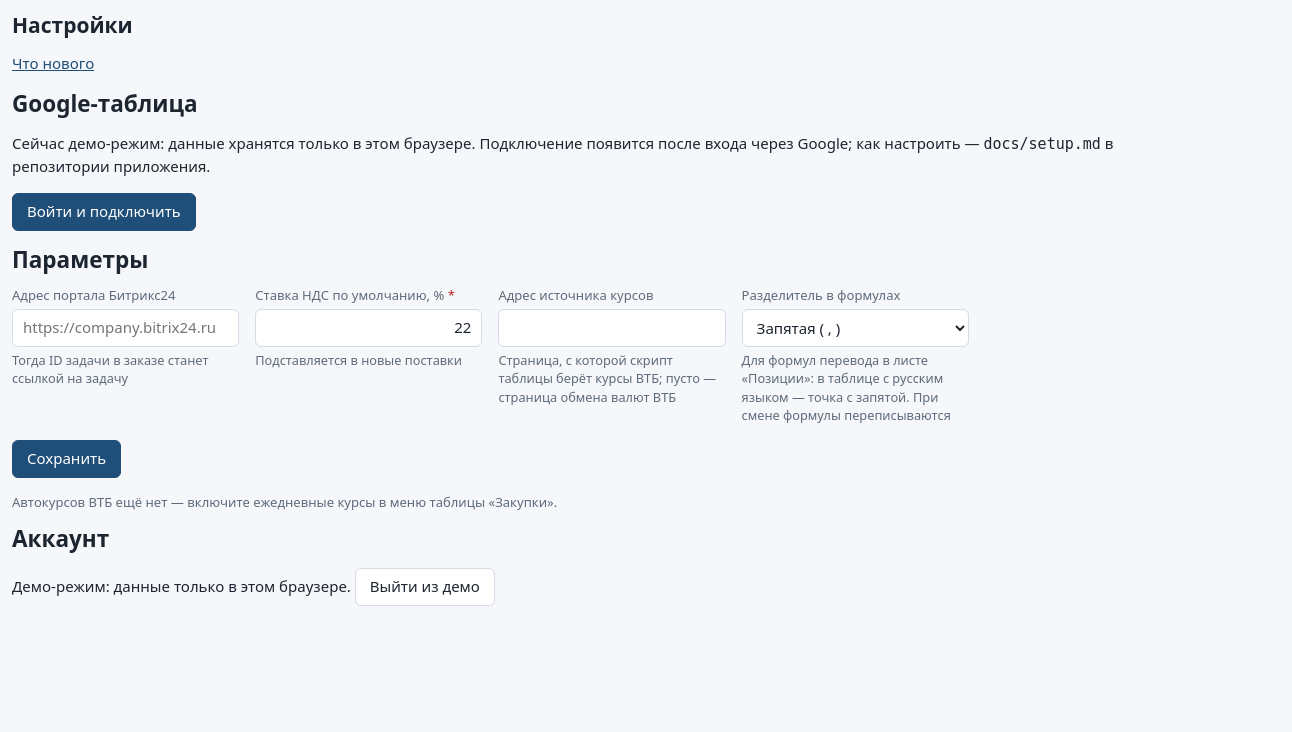
экран настроек › нет связи — баннер «Нет связи с таблицей — Повторить», введённое не теряется, повтор сохраняет
Expected: the field labelled "Ставка НДС по умолчанию, % *" holds "22", left=255, top=309, right=482, bottom=347
Type "https://p.bitrix24.ru" into the field labelled "Адрес портала Битрикс24" at (126, 328), box left=12, top=309, right=239, bottom=347
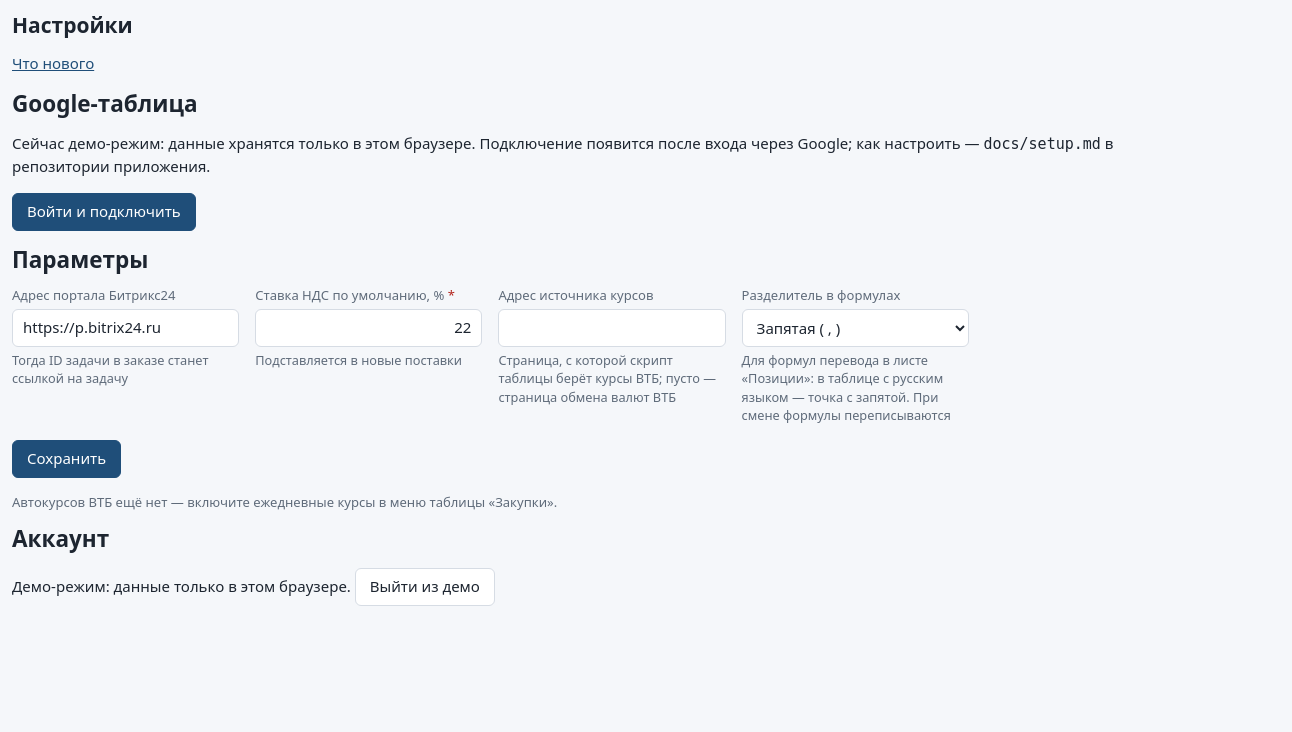
Click the button "Сохранить" at (67, 459), box left=12, top=440, right=121, bottom=478
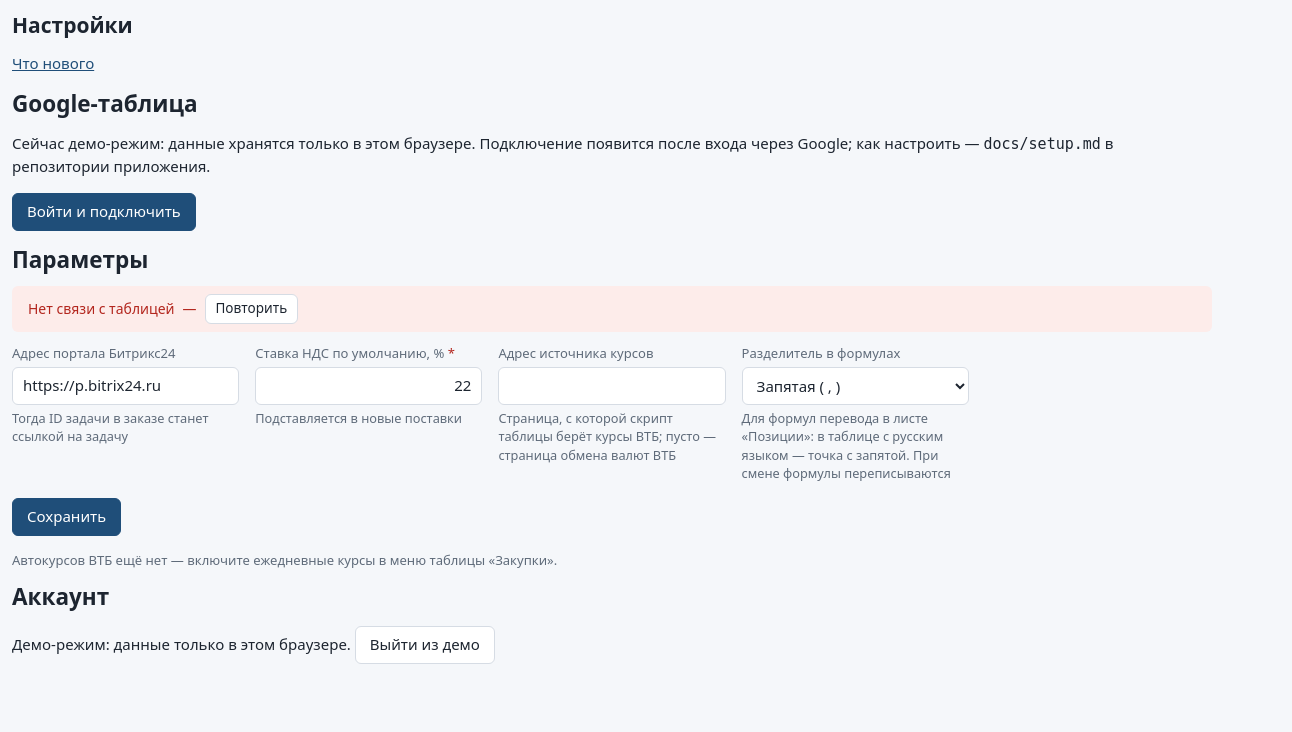
Result: the message shows "Нет связи с таблицей" at left=28, top=299, right=175, bottom=318
Click the button "Повторить" at (251, 309), box left=204, top=294, right=298, bottom=324
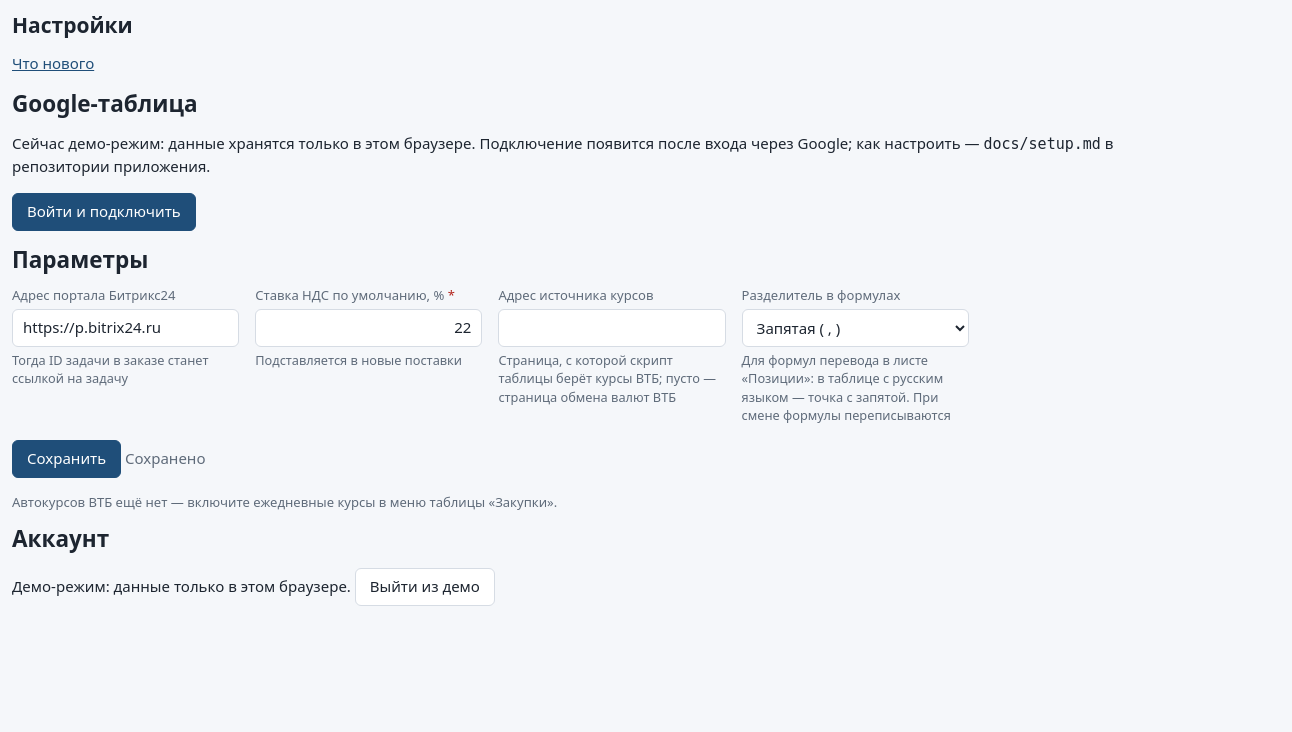
Result: the text "Сохранено" is shown at left=121, top=448, right=206, bottom=468
